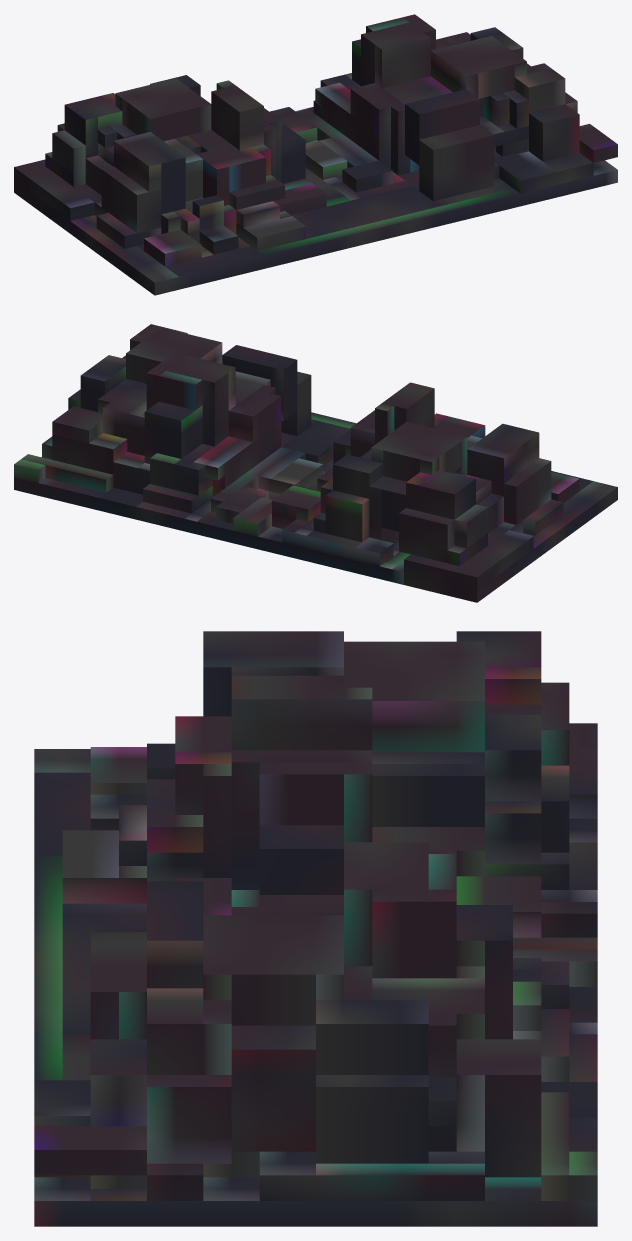
File: Garbage_B_00.fbx
The picture shows the model from 3 angles, top to bottom: view 1: azimuth 30°, elevation 25°; view 2: azimuth 150°, elevation 25°; view 3: azimuth 270°, elevation 25°; orthographic projection. The views are drawn at different scales.
Parts seen in each view (by area): view 1: Garbage_B_00; view 2: Garbage_B_00; view 3: Garbage_B_00.
Boxes of the visible parts, <box> form: Garbage_B_00: <box>14,14,617,295</box>; Garbage_B_00: <box>14,324,617,602</box>; Garbage_B_00: <box>34,631,597,1226</box>.
Bounding box in the file's own units: 190 × 45 × 100.
